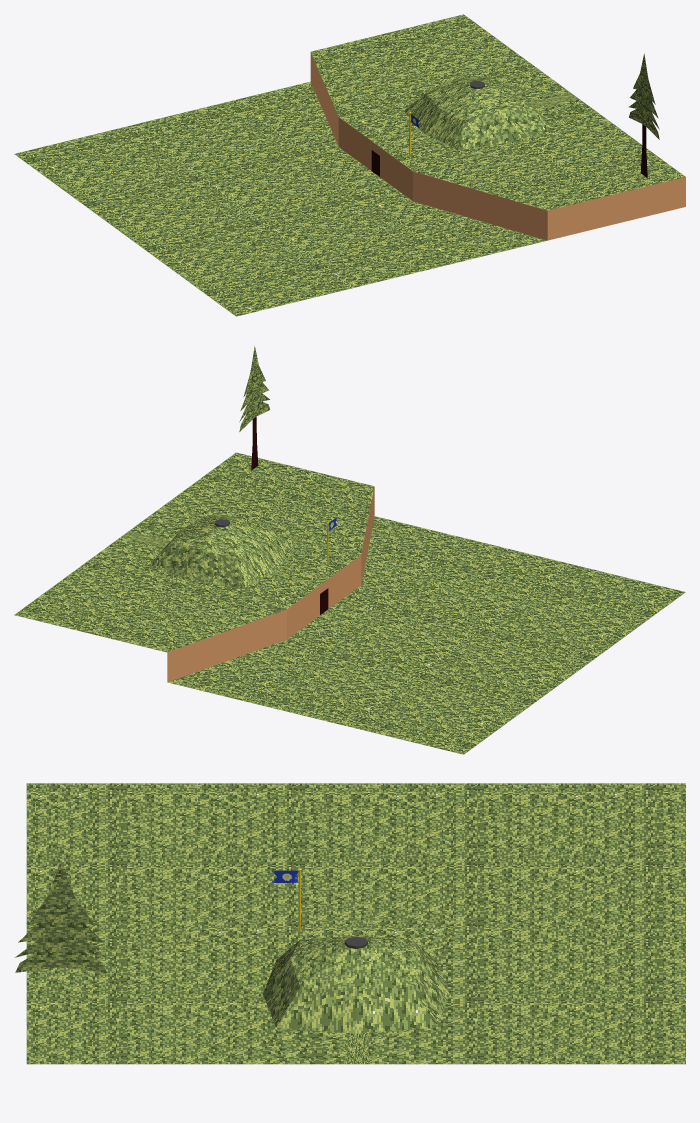
The model's file is Sonic battle freedome hq.glb.
3 views of the same model, one above another, from view 1: azimuth 30°, elevation 25°; view 2: azimuth 150°, elevation 25°; view 3: azimuth 270°, elevation 25° (orthographic). The views are drawn at different scales.
Visible parts, largest first — view 1: Hill, Mound, Tree; view 2: Hill, Mound, Tree; view 3: Hill, Mound, Tree.
Boxes of the visible parts, bbox=[...] form: Hill: bbox=[14, 14, 685, 316]; Mound: bbox=[404, 77, 550, 150]; Tree: bbox=[629, 53, 659, 177]; Hill: bbox=[14, 452, 685, 754]; Mound: bbox=[149, 515, 295, 588]; Tree: bbox=[239, 346, 269, 470]; Hill: bbox=[26, 783, 685, 1064]; Mound: bbox=[263, 935, 449, 1033]; Tree: bbox=[14, 860, 107, 972].
Size of what is drawn, in the model's own units: 66.24 by 21.53 by 57.77.
6 materials, 2 textured.
